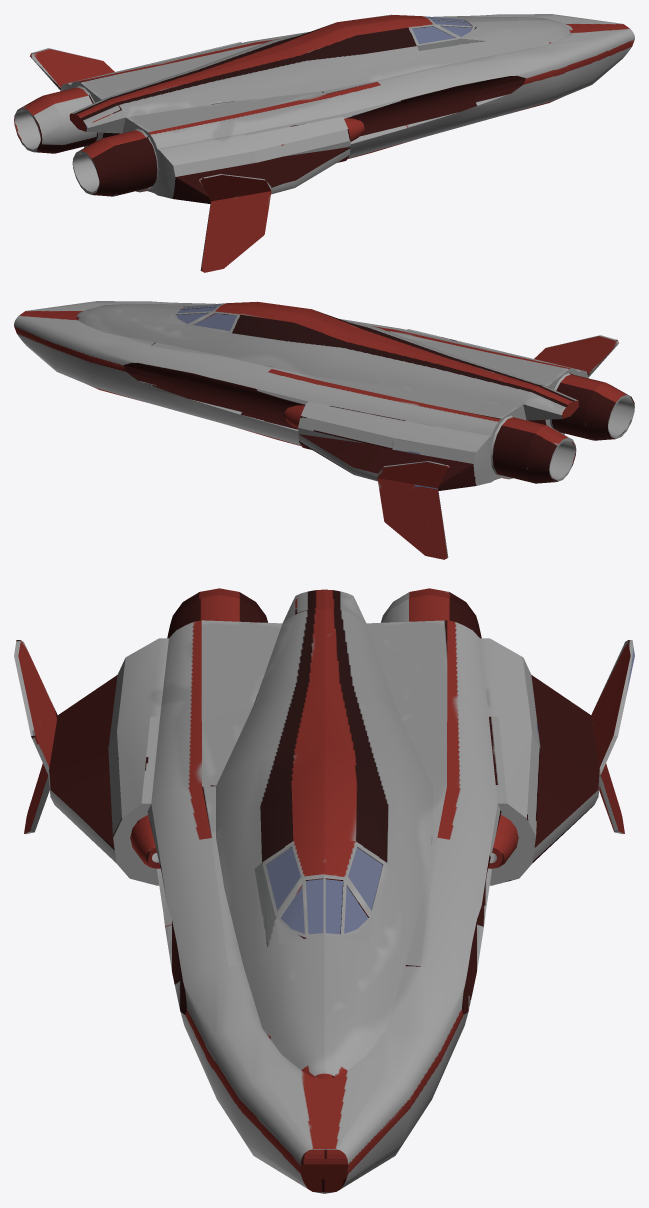
Rendered from enemy_fighter.fbx.
3 renders of one model, top to bottom at view 1: azimuth 30°, elevation 25°; view 2: azimuth 150°, elevation 25°; view 3: azimuth 270°, elevation 25°, orthographic. The views are drawn at different scales.
Parts seen in each view (by area): view 1: interseptor1; view 2: interseptor1; view 3: interseptor1.
Boxes of the visible parts, <box> form: interseptor1: <box>14,14,634,272</box>; interseptor1: <box>14,301,634,559</box>; interseptor1: <box>14,588,634,1193</box>.
Bounding box in the file's own units: 1709 × 371 × 897.
